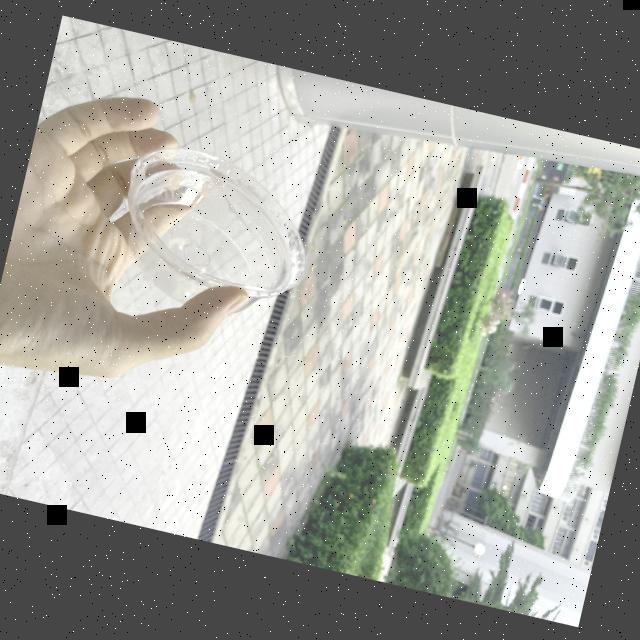plastic_cup_lid: (101, 134, 329, 332)
